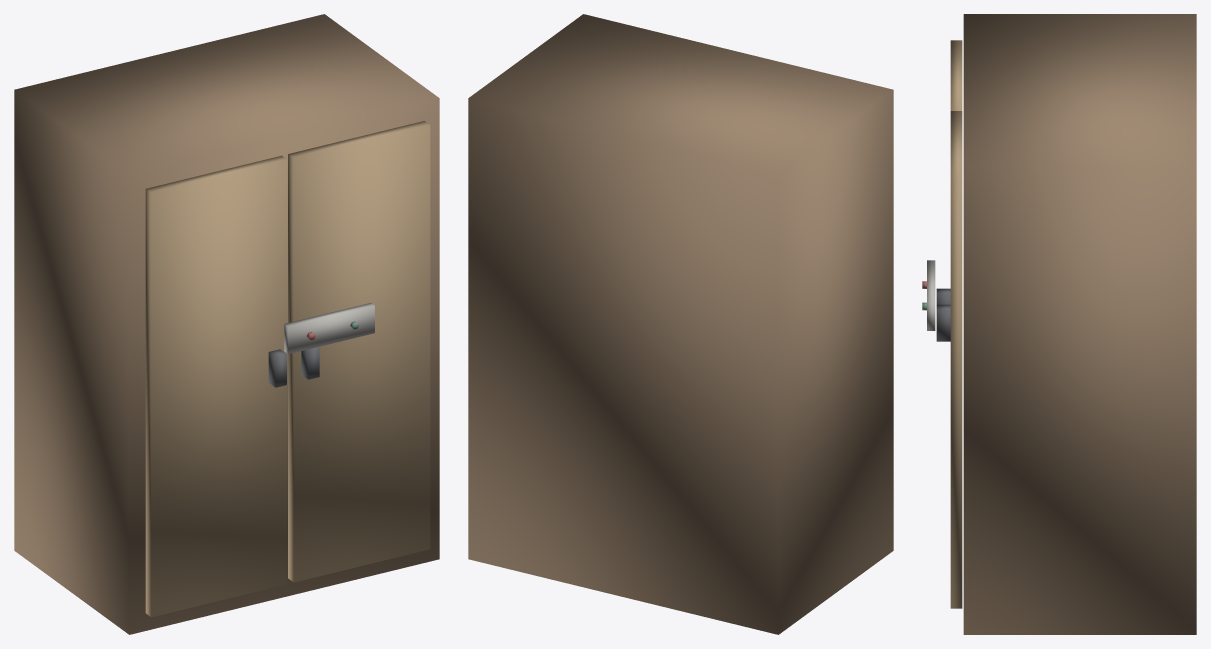
The model's file is evidence_cabinet__deep.glb.
3 renders of one model, left to right at view 1: azimuth 30°, elevation 25°; view 2: azimuth 150°, elevation 25°; view 3: azimuth 270°, elevation 25°, orthographic.
Visible parts, largest first — view 1: world; view 2: world; view 3: world.
Boxes of the visible parts, x1,y1,x2,y2 form: world: [14, 14, 439, 634]; world: [468, 14, 893, 634]; world: [922, 14, 1196, 634].
Bounding box in the file's own units: 0.95 × 1.35 × 0.718.
